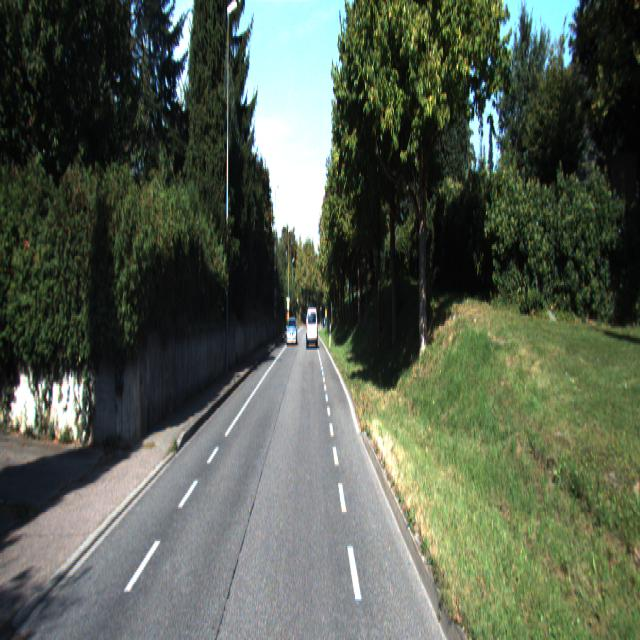Car: (306, 307, 318, 350), (286, 318, 298, 348)
